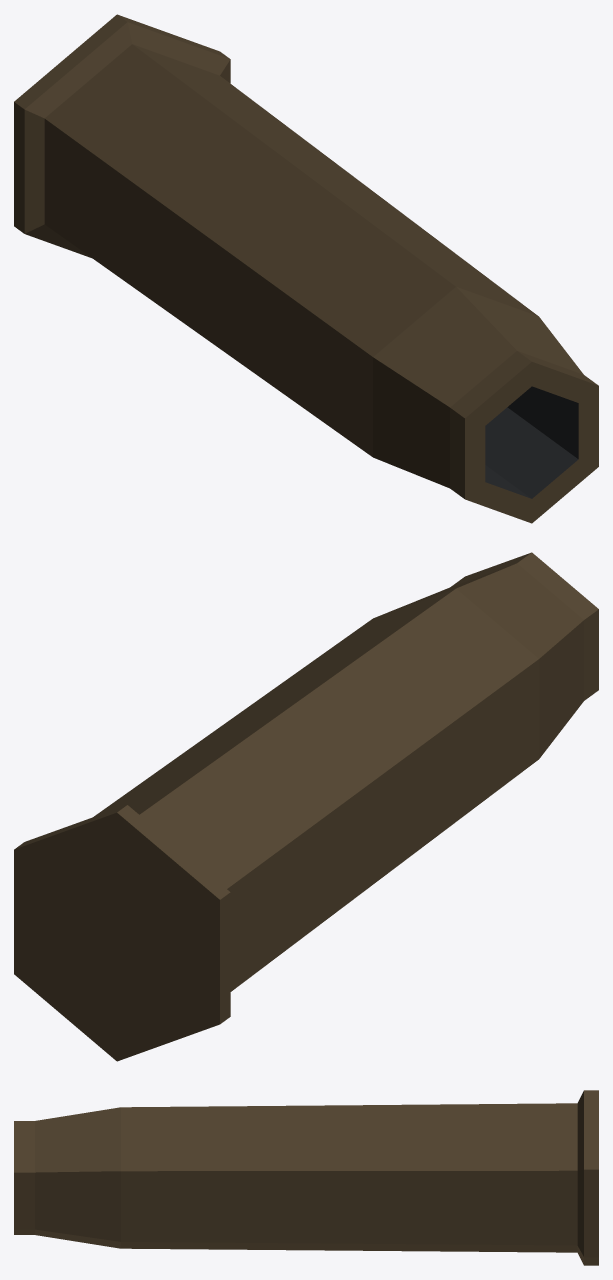
The model's file is SM_Prop_Shell_01.fbx.
The picture shows the model from 3 angles, top to bottom: view 1: azimuth 30°, elevation 25°; view 2: azimuth 150°, elevation 25°; view 3: azimuth 270°, elevation 25°; orthographic projection. The views are drawn at different scales.
Visible parts, largest first — view 1: SM_Prop_Shell_01; view 2: SM_Prop_Shell_01; view 3: SM_Prop_Shell_01.
Boxes of the visible parts, x1,y1,x2,y2 form: SM_Prop_Shell_01: (14, 14, 598, 523); SM_Prop_Shell_01: (14, 552, 598, 1061); SM_Prop_Shell_01: (14, 1090, 598, 1265).
Size of the model in its own units: 22.24 by 25.68 by 77.58.
